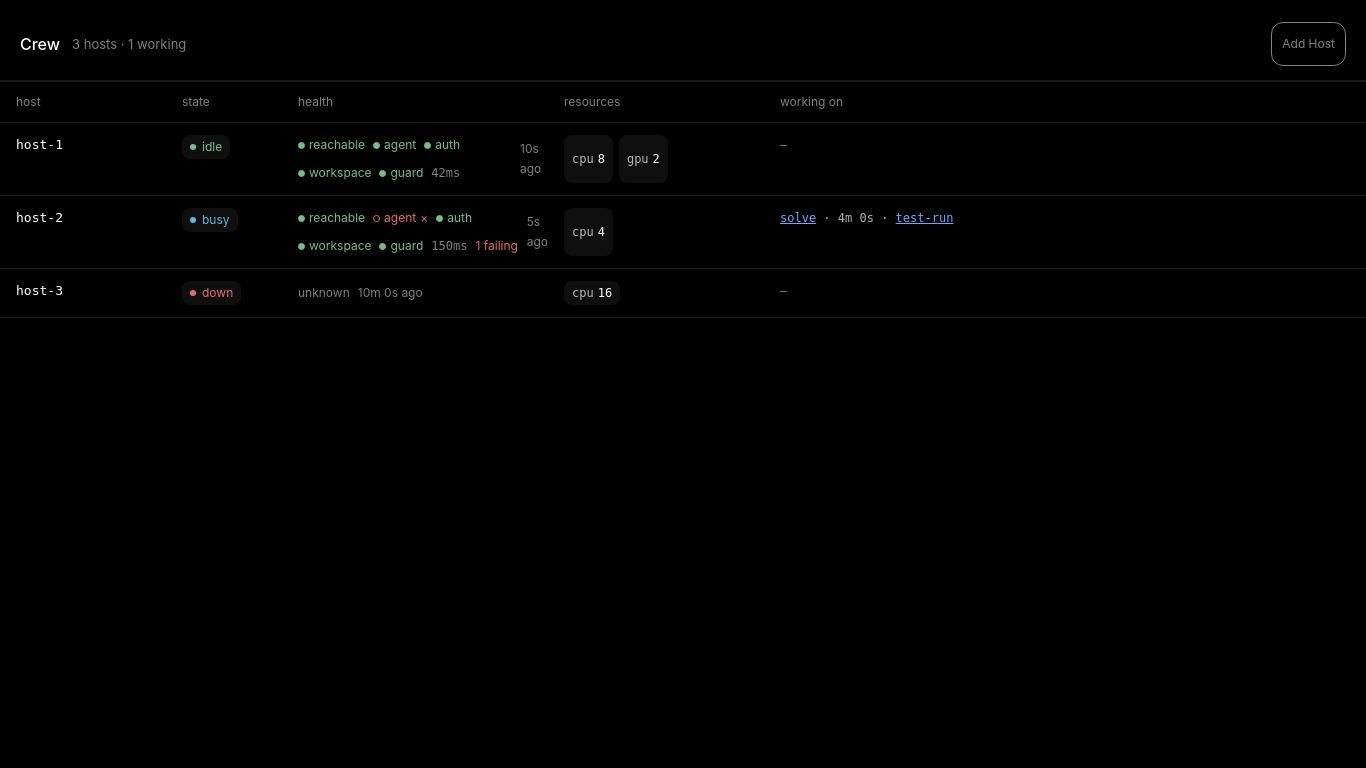
CrewPanel › refetches on a clock, so the ages keep counting through a long turn with no events
The image size is (1366, 768).
Expected: the text "host-2" is shown, [16,210,63,225]
Click the button "host-2" at point(39, 218), box [0,196,1365,269]
Wait 15000 ms
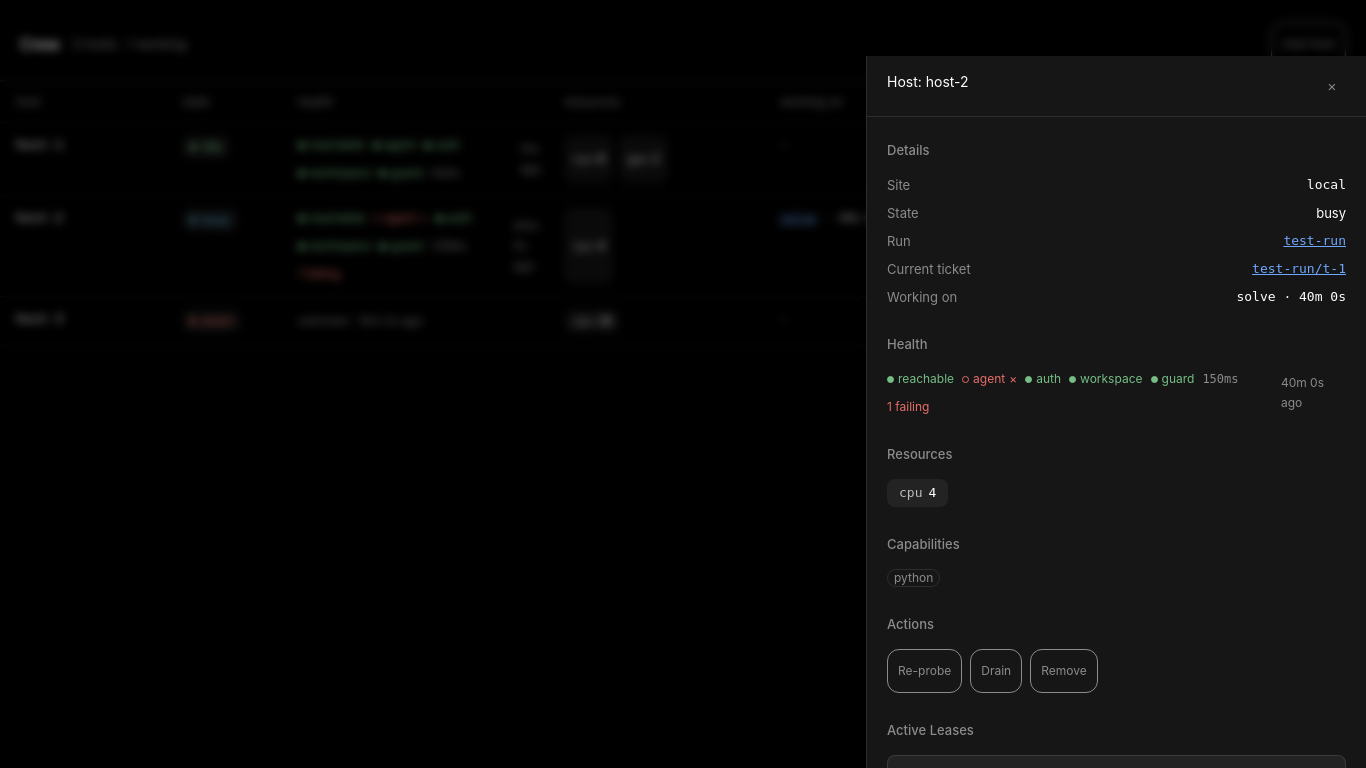
Expected: the button "host-2" shows "solve · 40m 0s", [0,196,1365,297]
Expected: the button "host-2" shows "40m 0s ago", [0,196,1365,297]
Expected: the text "solve · 40m 0s" is shown, [1236,287,1346,307]
